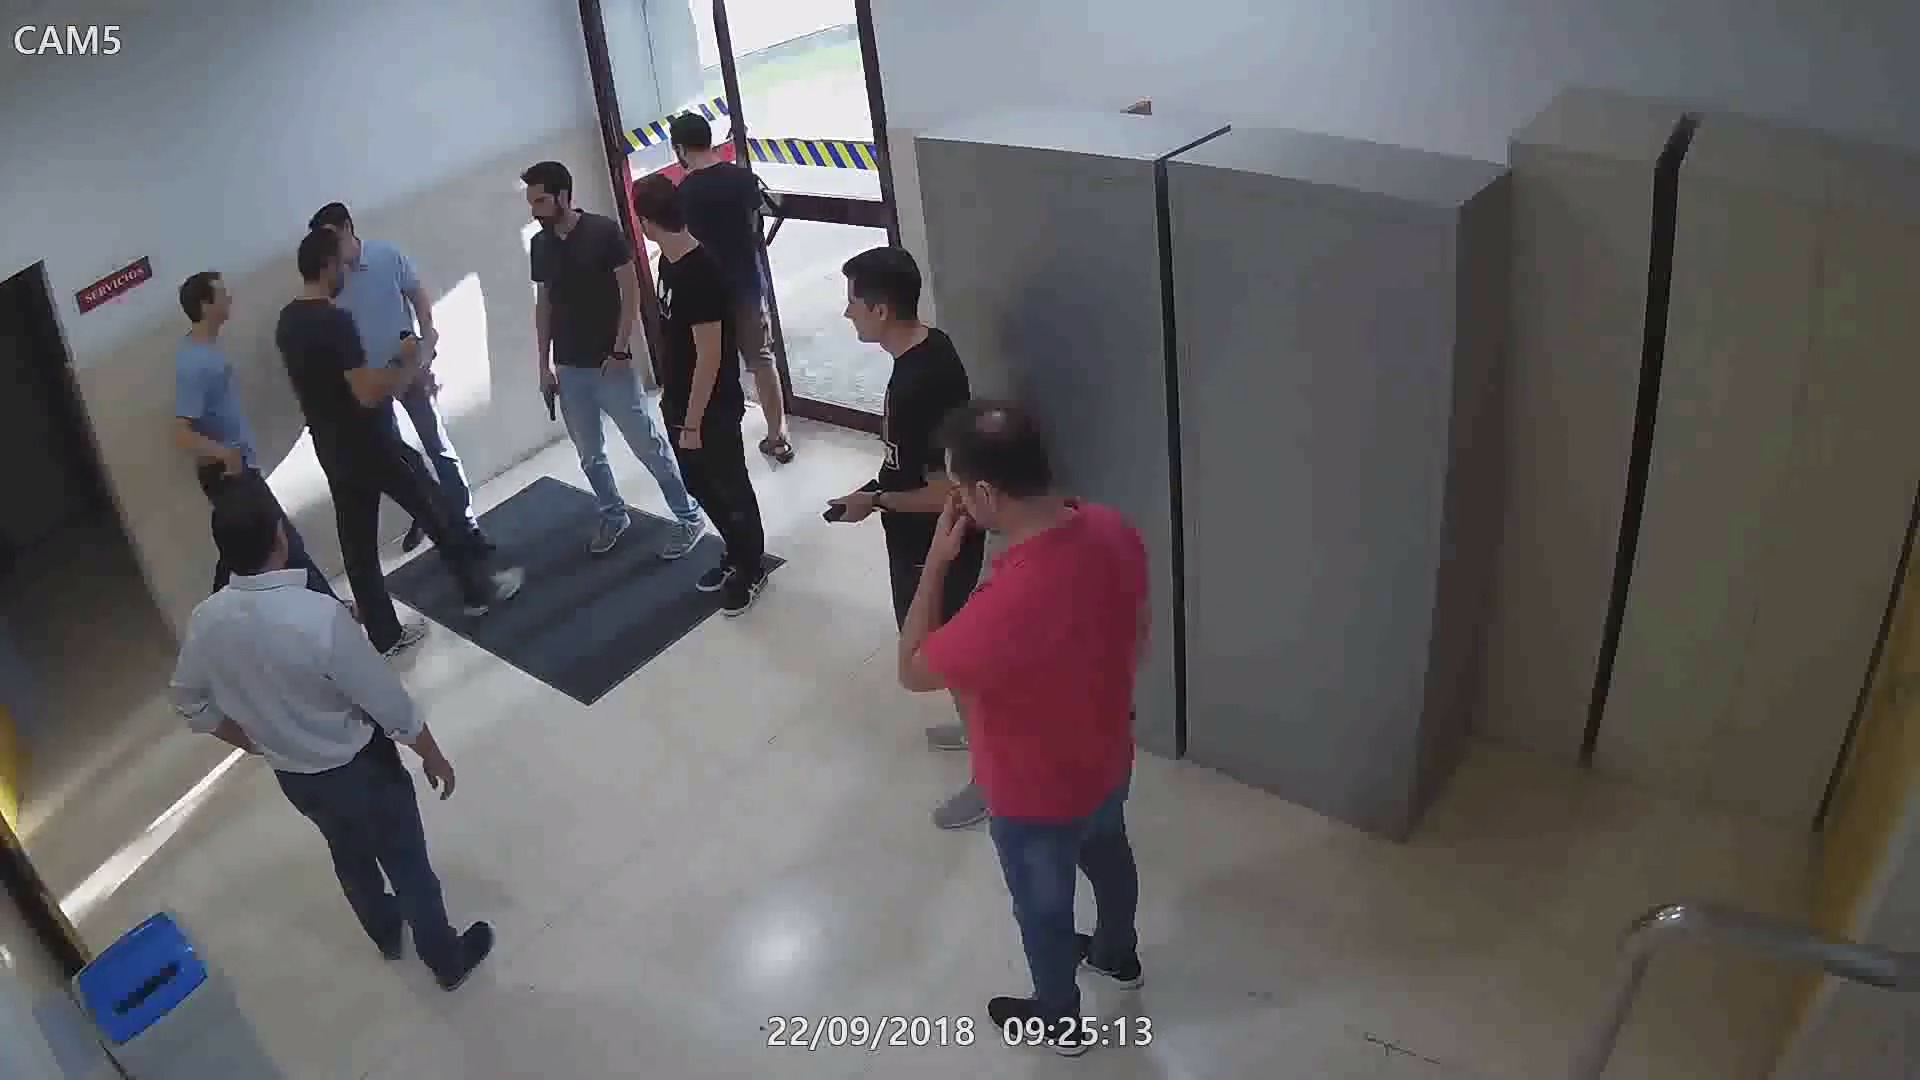Handgun: (818, 477, 887, 530), (364, 708, 404, 773), (535, 367, 563, 426), (214, 454, 252, 481)
